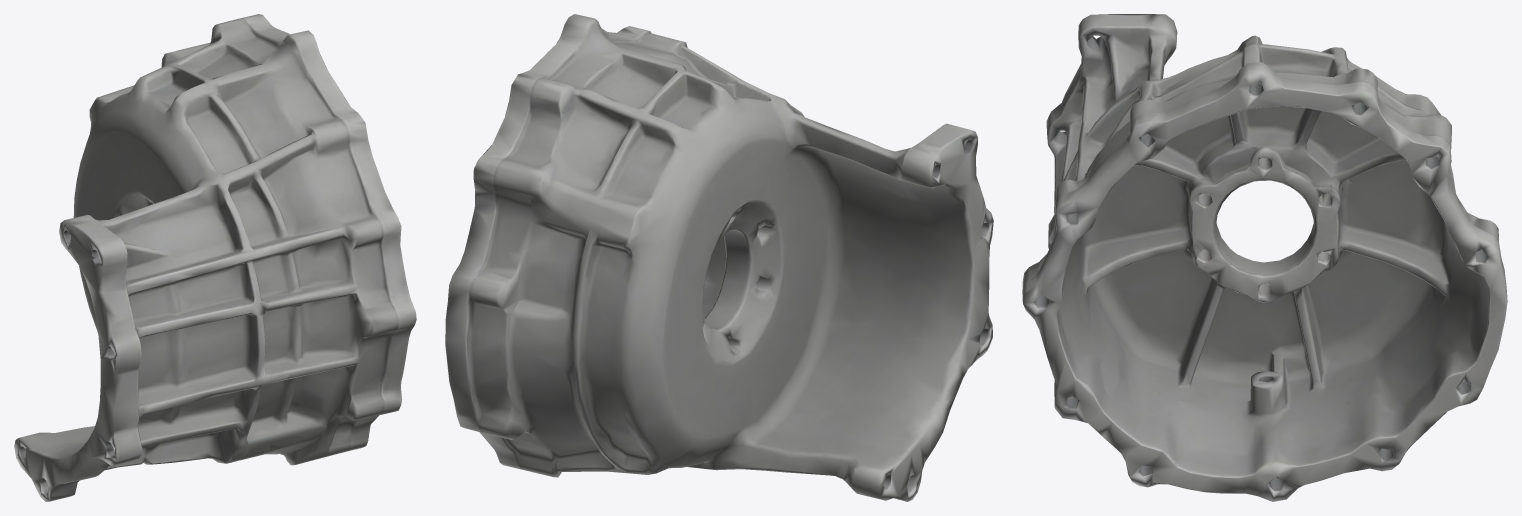
The model's file is m-t-case.glb.
3 renders of one model, left to right at view 1: azimuth 30°, elevation 25°; view 2: azimuth 150°, elevation 25°; view 3: azimuth 270°, elevation 25°, orthographic. The views are drawn at different scales.
Parts seen in each view (by area): view 1: tripo_node_c931e201-5803-455c-95f8-27544faec923; view 2: tripo_node_c931e201-5803-455c-95f8-27544faec923; view 3: tripo_node_c931e201-5803-455c-95f8-27544faec923.
Part boxes in pixels (left/top/right/bottom): tripo_node_c931e201-5803-455c-95f8-27544faec923: left=14, top=14, right=416, bottom=501; tripo_node_c931e201-5803-455c-95f8-27544faec923: left=445, top=14, right=993, bottom=501; tripo_node_c931e201-5803-455c-95f8-27544faec923: left=1022, top=14, right=1507, bottom=501.
Bounding box in the file's own units: 0.7545 × 0.9789 × 1.
Materials: 1 (1 with a texture image).
